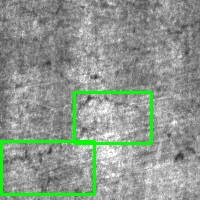crazing: (1, 141, 94, 194), (74, 92, 151, 143)
